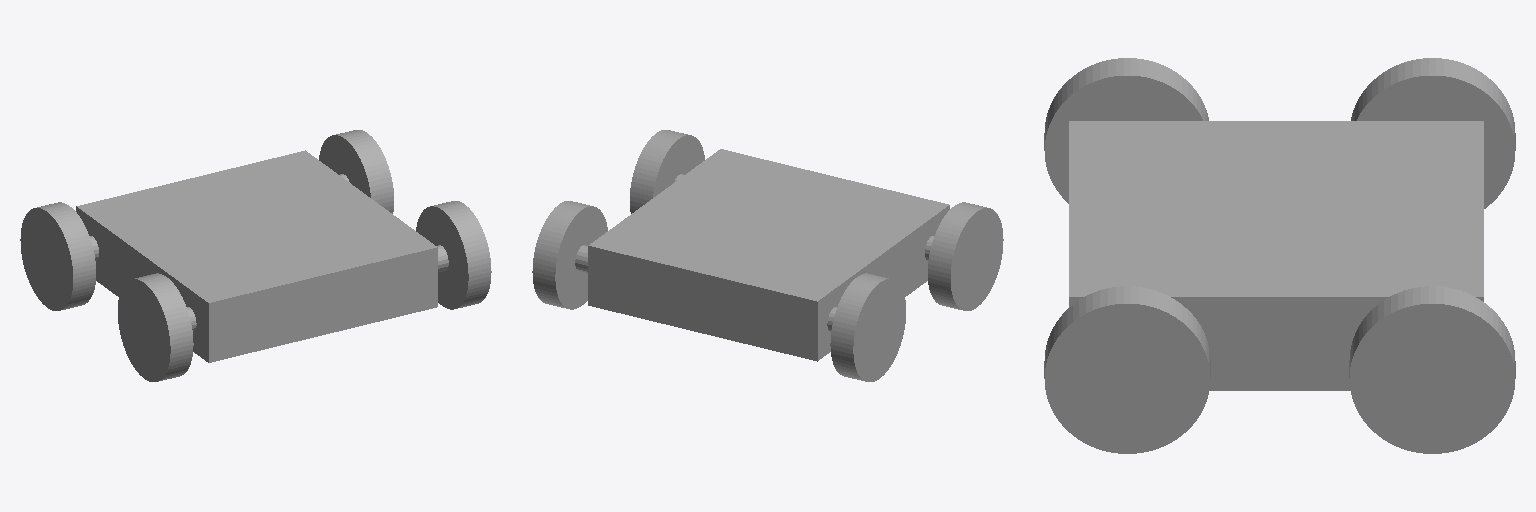
The robot description file, URDF, robot "car3":
<?xml version="1.0" ?>
<!-- =================================================================================== -->
<!-- |    This document was autogenerated by xacro from urdf/car3.xacro                | -->
<!-- |    EDITING THIS FILE BY HAND IS NOT RECOMMENDED                                 | -->
<!-- =================================================================================== -->
<robot xmlns:xacro="http://www.ros.org/wiki/xacro" name="car3">
  <material name="silver">
    <color rgba="0.700 0.700 0.700 1.000"/>
  </material>
  <transmission name="Revolute 1_tran">
    <type>transmission_interface/SimpleTransmission</type>
    <joint name="Revolute 1">
      <hardwareInterface>hardware_interface/EffortJointInterface</hardwareInterface>
    </joint>
    <actuator name="Revolute 1_actr">
      <hardwareInterface>hardware_interface/EffortJointInterface</hardwareInterface>
      <mechanicalReduction>1</mechanicalReduction>
    </actuator>
  </transmission>
  <transmission name="Revolute 2_tran">
    <type>transmission_interface/SimpleTransmission</type>
    <joint name="Revolute 2">
      <hardwareInterface>hardware_interface/EffortJointInterface</hardwareInterface>
    </joint>
    <actuator name="Revolute 2_actr">
      <hardwareInterface>hardware_interface/EffortJointInterface</hardwareInterface>
      <mechanicalReduction>1</mechanicalReduction>
    </actuator>
  </transmission>
  <transmission name="Revolute 3_tran">
    <type>transmission_interface/SimpleTransmission</type>
    <joint name="Revolute 3">
      <hardwareInterface>hardware_interface/EffortJointInterface</hardwareInterface>
    </joint>
    <actuator name="Revolute 3_actr">
      <hardwareInterface>hardware_interface/EffortJointInterface</hardwareInterface>
      <mechanicalReduction>1</mechanicalReduction>
    </actuator>
  </transmission>
  <transmission name="Revolute 4_tran">
    <type>transmission_interface/SimpleTransmission</type>
    <joint name="Revolute 4">
      <hardwareInterface>hardware_interface/EffortJointInterface</hardwareInterface>
    </joint>
    <actuator name="Revolute 4_actr">
      <hardwareInterface>hardware_interface/EffortJointInterface</hardwareInterface>
      <mechanicalReduction>1</mechanicalReduction>
    </actuator>
  </transmission>
  <gazebo>
    <plugin name="control" filename="libgazebo_ros_control.so"/>
  </gazebo>
  <gazebo reference="base_link">
    <material>Gazebo/Silver</material>
    <mu1>0.2</mu1>
    <mu2>0.2</mu2>
    <selfCollide>true</selfCollide>
    <gravity>true</gravity>
  </gazebo>
  <gazebo reference="rf_1">
    <material>Gazebo/Silver</material>
    <mu1>0.2</mu1>
    <mu2>0.2</mu2>
    <selfCollide>true</selfCollide>
  </gazebo>
  <gazebo reference="lb_1">
    <material>Gazebo/Silver</material>
    <mu1>0.2</mu1>
    <mu2>0.2</mu2>
    <selfCollide>true</selfCollide>
  </gazebo>
  <gazebo reference="lf_1">
    <material>Gazebo/Silver</material>
    <mu1>0.2</mu1>
    <mu2>0.2</mu2>
    <selfCollide>true</selfCollide>
  </gazebo>
  <gazebo reference="rb_1">
    <material>Gazebo/Silver</material>
    <mu1>0.2</mu1>
    <mu2>0.2</mu2>
    <selfCollide>true</selfCollide>
  </gazebo>
  <link name="base_link">
    <inertial>
      <origin xyz="0.0 2.0716135773123243e-05 0.025000000000000005" rpy="0 0 0"/>
      <mass value="15.89729201864544"/>
      <inertia ixx="0.056679" iyy="0.058003" izz="0.10813" ixy="0.0" iyz="0.0" ixz="0.0"/>
    </inertial>
    <visual>
      <origin xyz="0 0 0" rpy="0 0 0"/>
      <geometry>
        <mesh filename="package://car3_description/meshes/base_link.stl" scale="0.001 0.001 0.001"/>
      </geometry>
      <material name="silver"/>
    </visual>
    <collision>
      <origin xyz="0 0 0" rpy="0 0 0"/>
      <geometry>
        <mesh filename="package://car3_description/meshes/base_link.stl" scale="0.001 0.001 0.001"/>
      </geometry>
    </collision>
  </link>
  <link name="rf_1">
    <inertial>
      <origin xyz="0.010000000000000037 8.484561392352319e-08 -6.938893903907228e-18" rpy="0 0 0"/>
      <mass value="0.054688844913691116"/>
      <inertia ixx="4.4e-05" iyy="2.4e-05" izz="2.4e-05" ixy="0.0" iyz="-0.0" ixz="0.0"/>
    </inertial>
    <visual>
      <origin xyz="-0.12 0.071778 -0.025" rpy="0 0 0"/>
      <geometry>
        <mesh filename="package://car3_description/meshes/rf_1.stl" scale="0.001 0.001 0.001"/>
      </geometry>
      <material name="silver"/>
    </visual>
    <collision>
      <origin xyz="-0.12 0.071778 -0.025" rpy="0 0 0"/>
      <geometry>
        <mesh filename="package://car3_description/meshes/rf_1.stl" scale="0.001 0.001 0.001"/>
      </geometry>
    </collision>
  </link>
  <link name="lb_1">
    <inertial>
      <origin xyz="-0.010000000000000037 4.2283598547521173e-07 -6.938893903907228e-18" rpy="0 0 0"/>
      <mass value="0.054688844913691116"/>
      <inertia ixx="4.4e-05" iyy="2.4e-05" izz="2.4e-05" ixy="-0.0" iyz="-0.0" ixz="-0.0"/>
    </inertial>
    <visual>
      <origin xyz="0.12 -0.075116 -0.025" rpy="0 0 0"/>
      <geometry>
        <mesh filename="package://car3_description/meshes/lb_1.stl" scale="0.001 0.001 0.001"/>
      </geometry>
      <material name="silver"/>
    </visual>
    <collision>
      <origin xyz="0.12 -0.075116 -0.025" rpy="0 0 0"/>
      <geometry>
        <mesh filename="package://car3_description/meshes/lb_1.stl" scale="0.001 0.001 0.001"/>
      </geometry>
    </collision>
  </link>
  <link name="lf_1">
    <inertial>
      <origin xyz="-0.010000000000000037 8.484561392352319e-08 -6.938893903907228e-18" rpy="0 0 0"/>
      <mass value="0.054688844913691116"/>
      <inertia ixx="4.4e-05" iyy="2.4e-05" izz="2.4e-05" ixy="0.0" iyz="-0.0" ixz="-0.0"/>
    </inertial>
    <visual>
      <origin xyz="0.12 0.071778 -0.025" rpy="0 0 0"/>
      <geometry>
        <mesh filename="package://car3_description/meshes/lf_1.stl" scale="0.001 0.001 0.001"/>
      </geometry>
      <material name="silver"/>
    </visual>
    <collision>
      <origin xyz="0.12 0.071778 -0.025" rpy="0 0 0"/>
      <geometry>
        <mesh filename="package://car3_description/meshes/lf_1.stl" scale="0.001 0.001 0.001"/>
      </geometry>
    </collision>
  </link>
  <link name="rb_1">
    <inertial>
      <origin xyz="0.010000000000000037 4.2283598547521173e-07 -6.938893903907228e-18" rpy="0 0 0"/>
      <mass value="0.054688844913691116"/>
      <inertia ixx="4.4e-05" iyy="2.4e-05" izz="2.4e-05" ixy="0.0" iyz="-0.0" ixz="0.0"/>
    </inertial>
    <visual>
      <origin xyz="-0.12 -0.075116 -0.025" rpy="0 0 0"/>
      <geometry>
        <mesh filename="package://car3_description/meshes/rb_1.stl" scale="0.001 0.001 0.001"/>
      </geometry>
      <material name="silver"/>
    </visual>
    <collision>
      <origin xyz="-0.12 -0.075116 -0.025" rpy="0 0 0"/>
      <geometry>
        <mesh filename="package://car3_description/meshes/rb_1.stl" scale="0.001 0.001 0.001"/>
      </geometry>
    </collision>
  </link>
  <joint name="Revolute 1" type="continuous">
    <origin xyz="0.12 -0.071778 0.025" rpy="0 0 0"/>
    <parent link="base_link"/>
    <child link="rf_1"/>
    <axis xyz="1.0 0.0 0.0"/>
  </joint>
  <joint name="Revolute 2" type="continuous">
    <origin xyz="-0.12 0.075116 0.025" rpy="0 0 0"/>
    <parent link="base_link"/>
    <child link="lb_1"/>
    <axis xyz="-1.0 0.0 0.0"/>
  </joint>
  <joint name="Revolute 3" type="continuous">
    <origin xyz="-0.12 -0.071778 0.025" rpy="0 0 0"/>
    <parent link="base_link"/>
    <child link="lf_1"/>
    <axis xyz="-1.0 0.0 0.0"/>
  </joint>
  <joint name="Revolute 4" type="continuous">
    <origin xyz="0.12 0.075116 0.025" rpy="0 0 0"/>
    <parent link="base_link"/>
    <child link="rb_1"/>
    <axis xyz="1.0 0.0 0.0"/>
  </joint>
</robot>

--- Render facts (derived) ---
Views: 3 orthographic renders of the robot side by side, from view 1: azimuth 30°, elevation 25°; view 2: azimuth 150°, elevation 25°; view 3: azimuth 270°, elevation 25°.
Model car3 with 5 links and 4 joints (4 continuous), rooted at base_link, posed every joint at zero.
Visible links, largest first — view 1: base_link, lf_1, lb_1, rf_1, rb_1; view 2: base_link, lb_1, lf_1, rb_1, rf_1; view 3: base_link, rf_1, rb_1, lb_1, lf_1.
Link boxes in pixels (bbox=[...]): base_link: bbox=[76, 150, 448, 362]; lf_1: bbox=[118, 273, 193, 381]; lb_1: bbox=[20, 202, 95, 310]; rf_1: bbox=[416, 201, 491, 309]; rb_1: bbox=[319, 130, 393, 213]; base_link: bbox=[575, 149, 949, 361]; lb_1: bbox=[830, 273, 905, 381]; lf_1: bbox=[928, 202, 1003, 310]; rb_1: bbox=[532, 201, 607, 309]; rf_1: bbox=[630, 130, 704, 213]; base_link: bbox=[1069, 121, 1483, 390]; rf_1: bbox=[1044, 286, 1210, 453]; rb_1: bbox=[1349, 286, 1515, 453]; lb_1: bbox=[1351, 58, 1515, 208]; lf_1: bbox=[1044, 58, 1208, 203].
Size in the robot's own frame: 0.28 by 0.2269 by 0.0799 metres.
Meshes: 5 distinct files referenced, 5 mesh visuals loaded (5 binary STL).